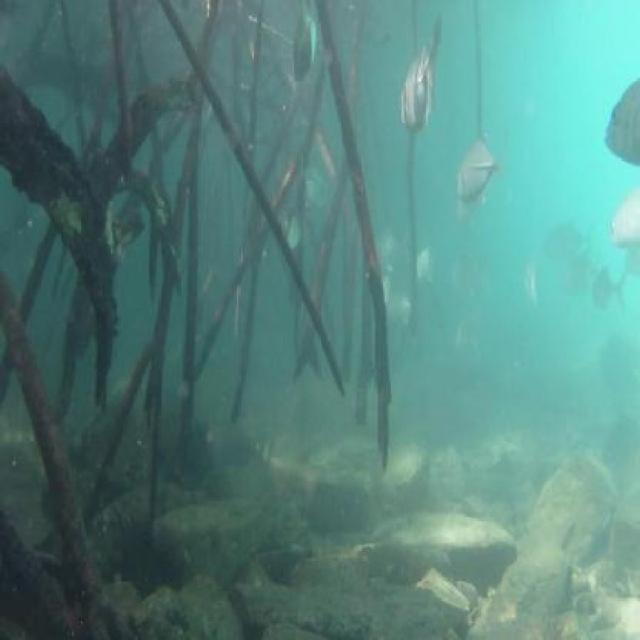Caranx_sexfasciatus_juvenile: (392, 14, 448, 146), (448, 135, 508, 219), (598, 69, 640, 171), (292, 141, 341, 224), (578, 254, 628, 321), (542, 209, 595, 271), (604, 174, 640, 257), (362, 219, 402, 290), (286, 11, 320, 88), (382, 277, 416, 341), (408, 230, 437, 295), (556, 242, 589, 298), (518, 248, 540, 306), (448, 312, 472, 365)
